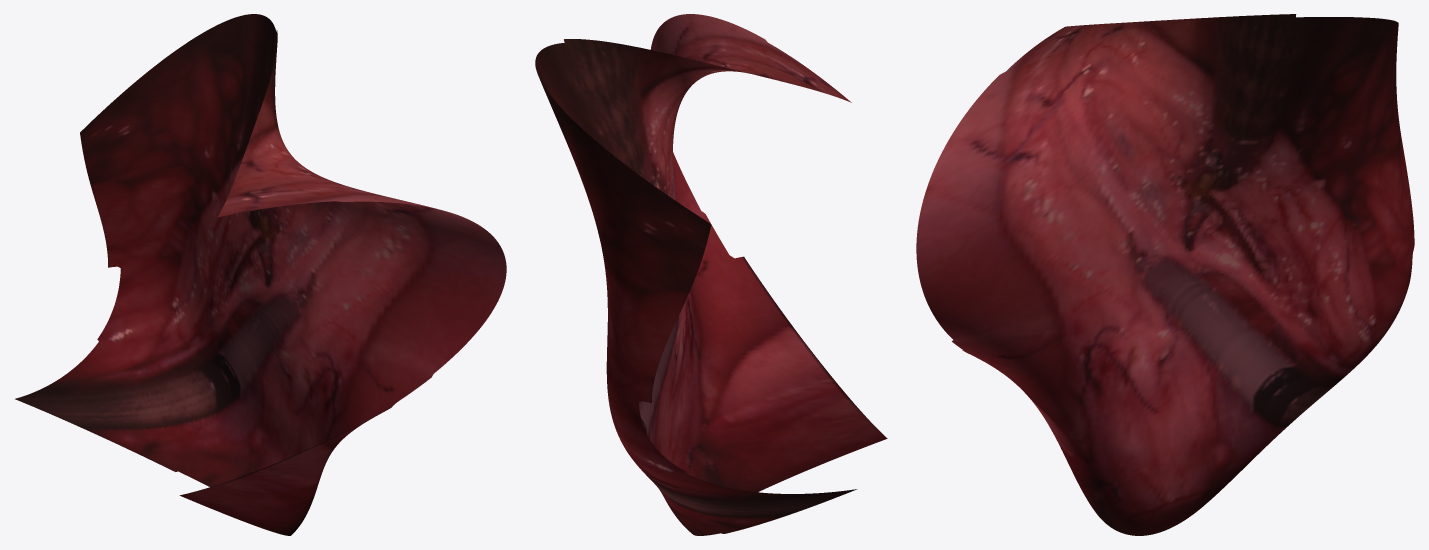
The model's file is tissue.obj.
3 views of the same model, side by side, from view 1: azimuth 30°, elevation 25°; view 2: azimuth 150°, elevation 25°; view 3: azimuth 270°, elevation 25° (orthographic). The views are drawn at different scales.
Size of the model in its own units: 0.0883 by 0.1116 by 0.0908.
